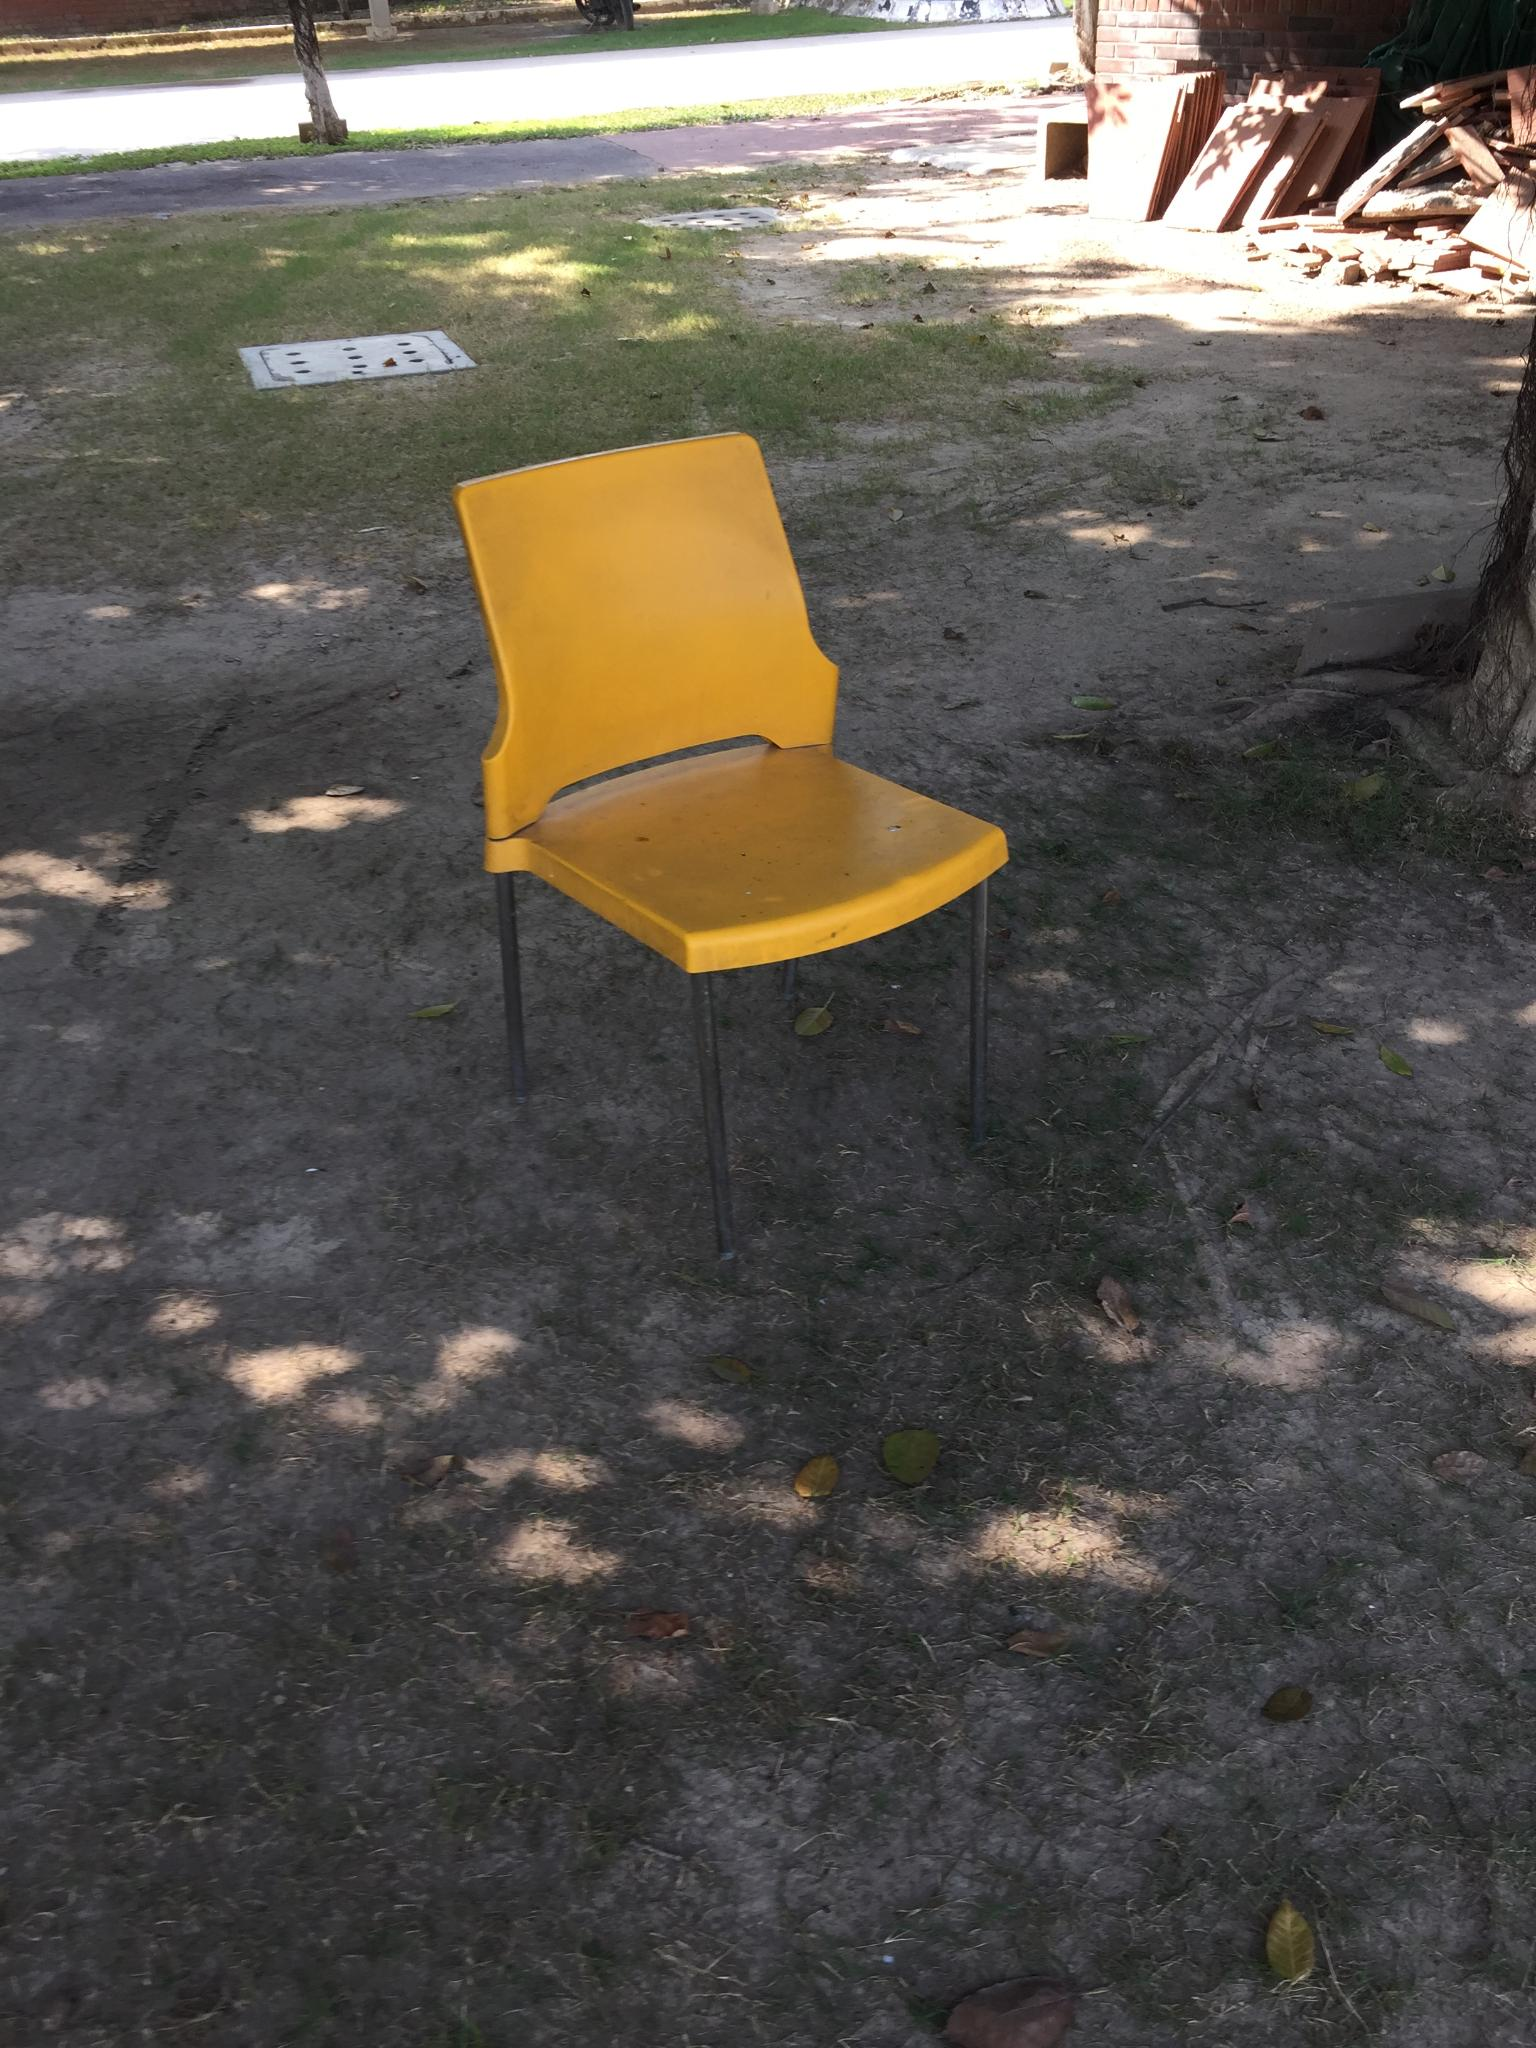chair: (450, 429, 1010, 1261)
